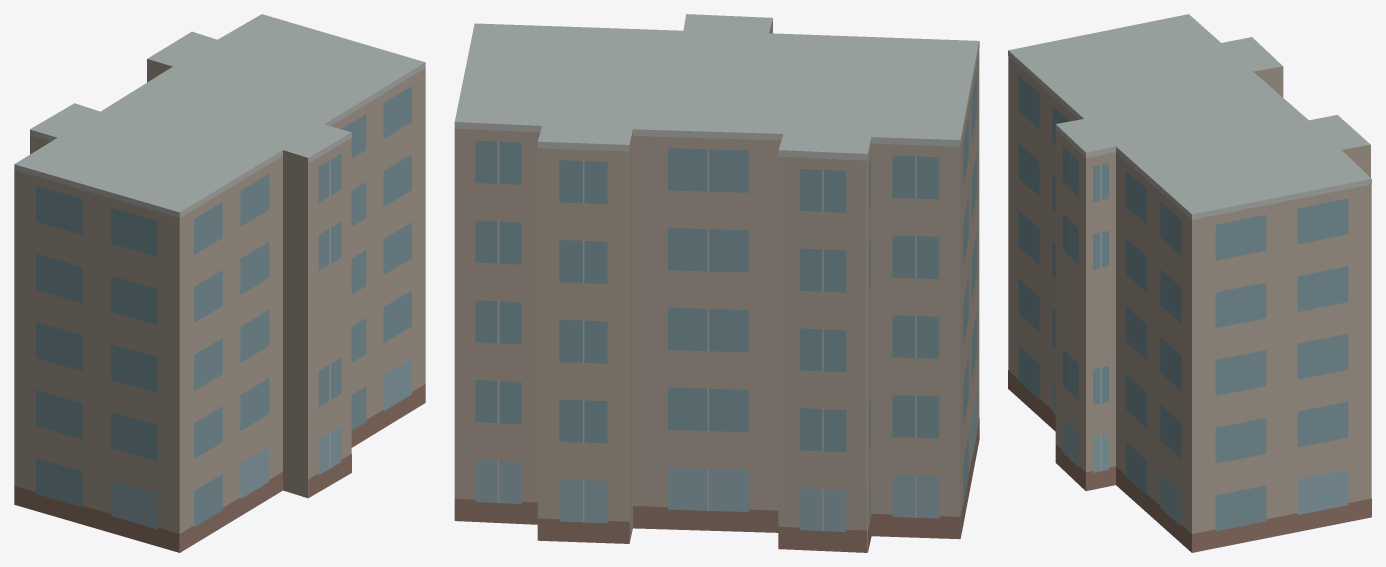
Rendered from survey-upis-32906460.glb.
3 renders of one model, left to right at view 1: azimuth 30°, elevation 25°; view 2: azimuth 150°, elevation 25°; view 3: azimuth 270°, elevation 25°, orthographic. The views are drawn at different scales.
Visible parts, largest first — view 1: survey-upis-32906460.tmp; view 2: survey-upis-32906460.tmp; view 3: survey-upis-32906460.tmp.
Part boxes in pixels (<box>): survey-upis-32906460.tmp: <box>14,14,425,552</box>; survey-upis-32906460.tmp: <box>454,14,979,552</box>; survey-upis-32906460.tmp: <box>1008,14,1371,552</box>.
Size of the model in its own units: 18.8 by 14.8 by 14.42.
